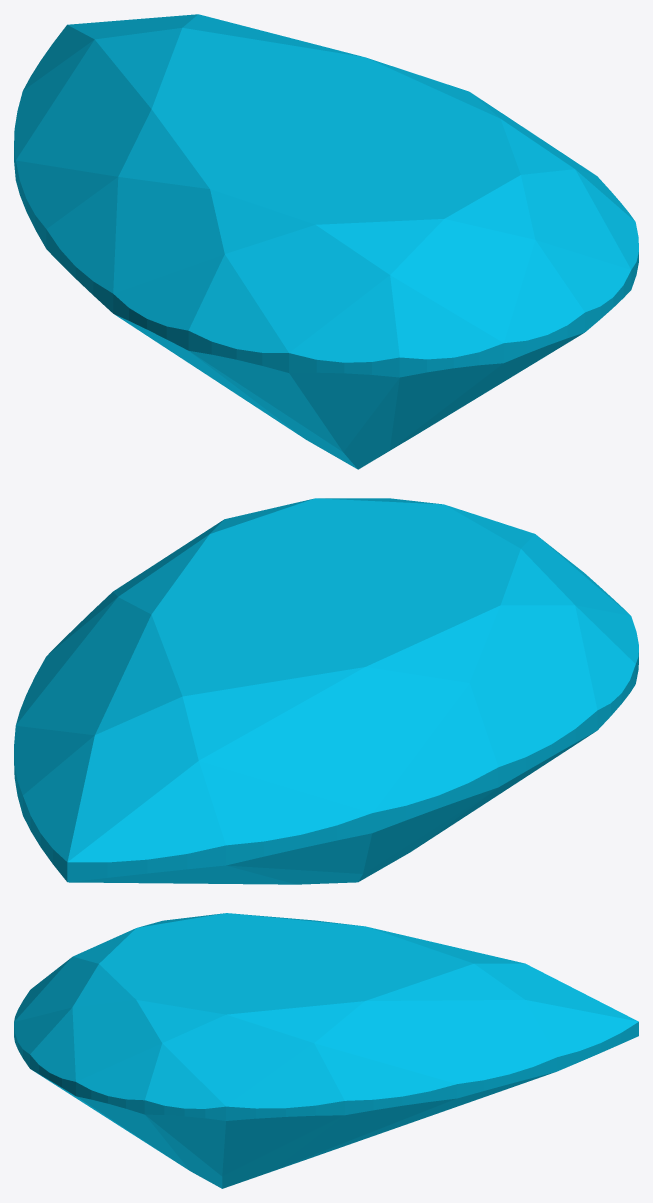
Rendered from Head_No Halo_Pear_2.0ct_Diamond.glb.
3 views of the same model, one above another, from view 1: azimuth 30°, elevation 25°; view 2: azimuth 150°, elevation 25°; view 3: azimuth 270°, elevation 25° (orthographic). The views are drawn at different scales.
Size of the model in its own units: 0.00713 by 0.00442 by 0.0111.
